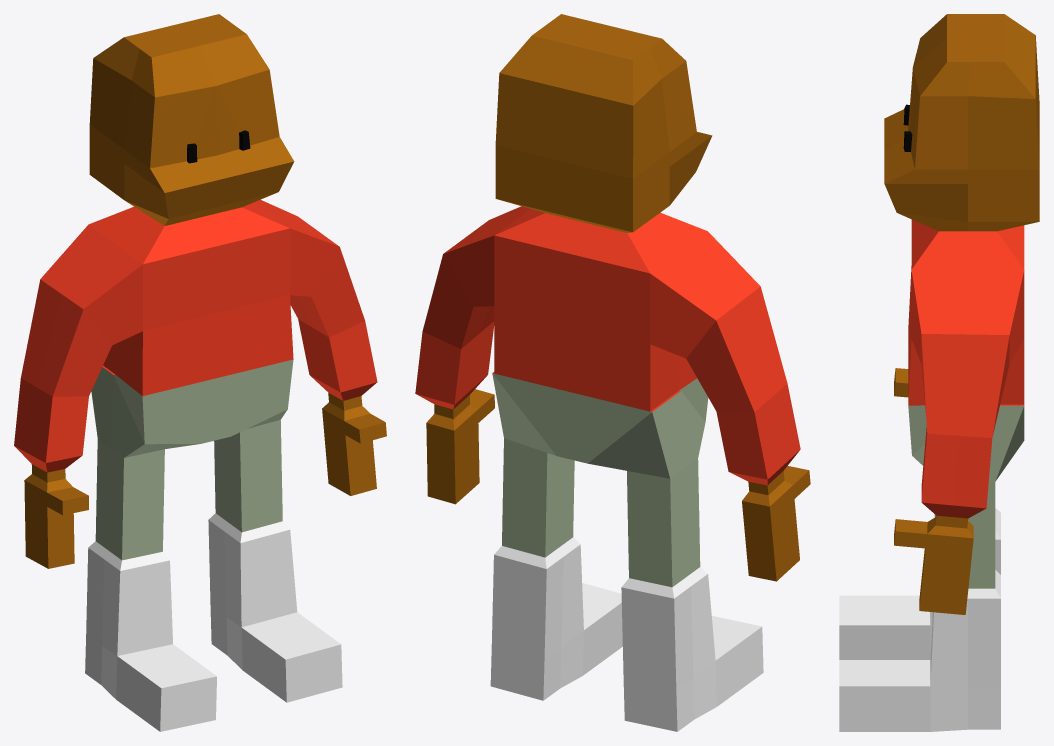
Rendered from Human1.fbx.
The picture shows the model from 3 angles, left to right: view 1: azimuth 30°, elevation 25°; view 2: azimuth 150°, elevation 25°; view 3: azimuth 270°, elevation 25°; orthographic projection. The views are drawn at different scales.
Visible parts, largest first — view 1: BaseHuman.001; view 2: BaseHuman.001; view 3: BaseHuman.001.
Boxes of the visible parts, x1,y1,x2,y2 form: BaseHuman.001: (14,14,386,731); BaseHuman.001: (415,14,810,731); BaseHuman.001: (839,14,1039,731).
Size of the model in its own units: 227 by 409 by 114.
